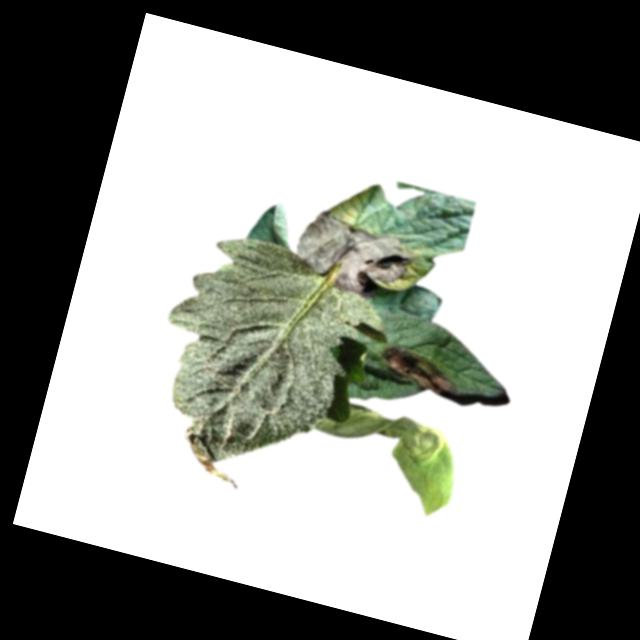Late_blight: (301, 394, 469, 523), (287, 203, 421, 306), (375, 342, 461, 400)
healthy: (132, 224, 394, 514)
